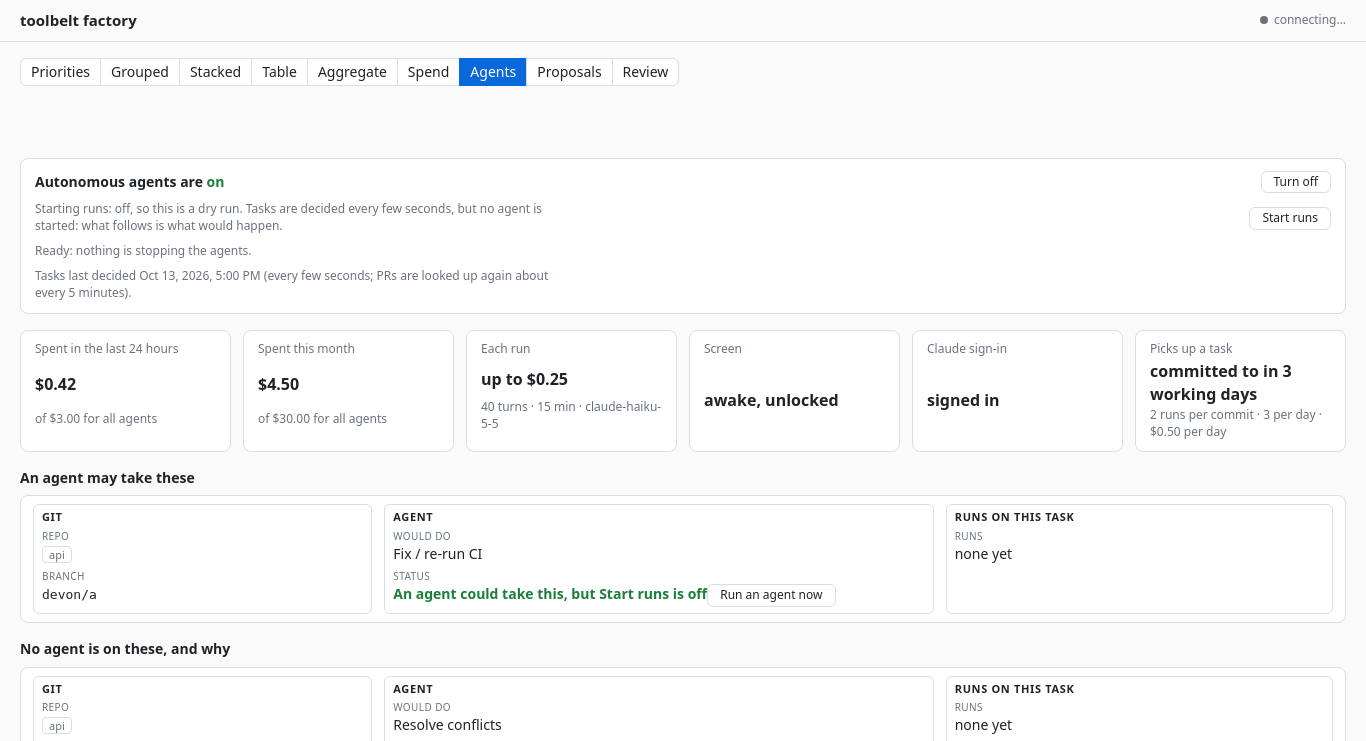
Test case: the agents view › a dry run says so, and the second switch lets the agents start runs
The image size is (1366, 741).
Expected: the text "Starting runs: off, so this is a dry run" is shown, [35,200,542,234]
Click the button "Start runs". click: [1290, 218]
box: [1249,207,1331,230]
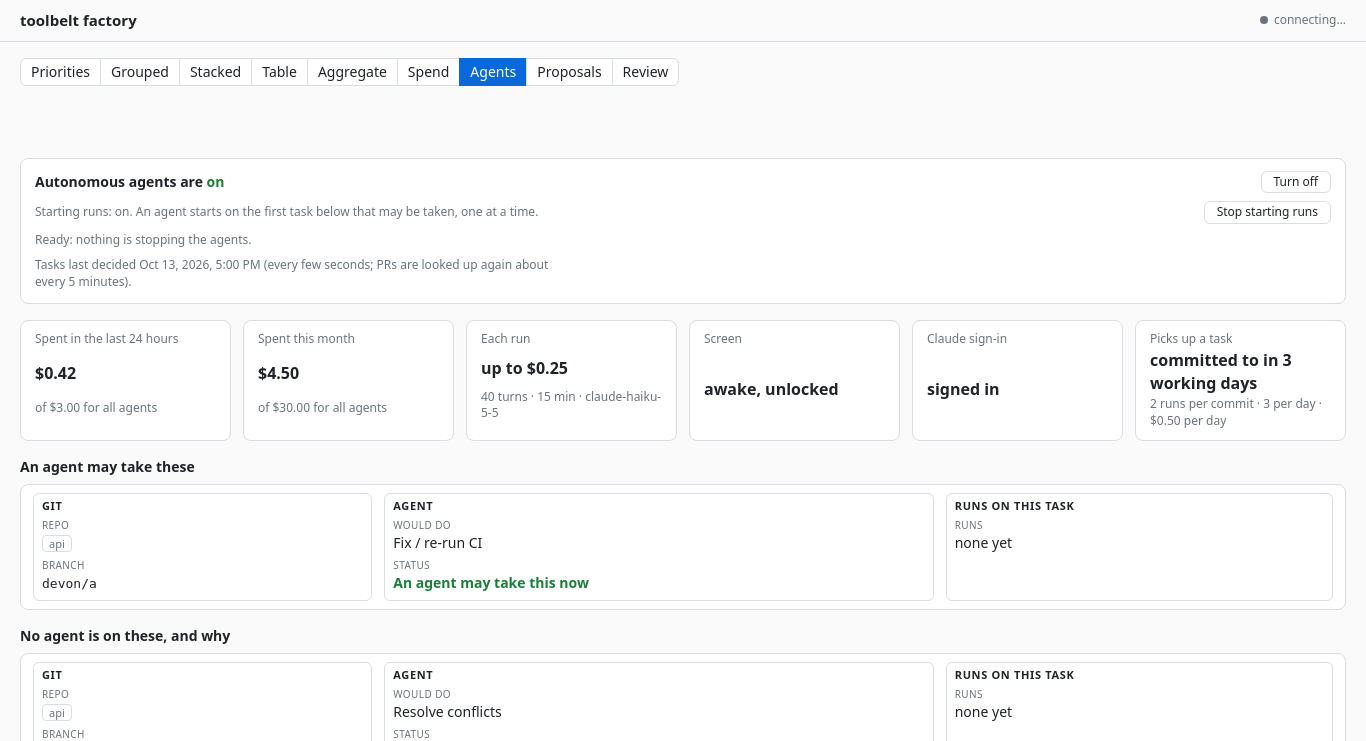
Expected: the text "Starting runs: on" is shown, [35,203,538,220]
Expected: the button "Stop starting runs" is shown, [1204,201,1331,224]
